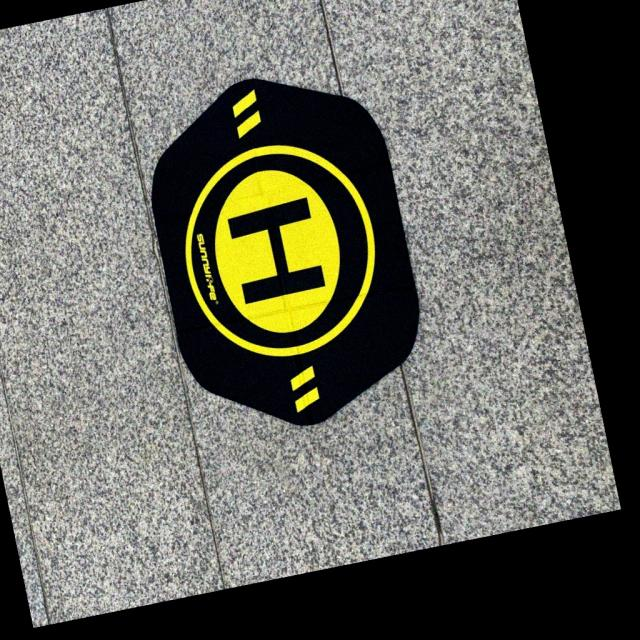helipad: (181, 140, 380, 359)
